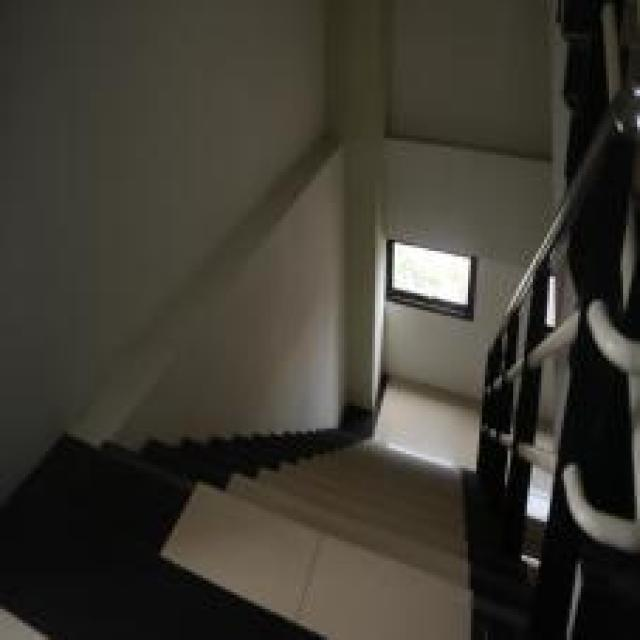downstair: (300, 478, 432, 591)
